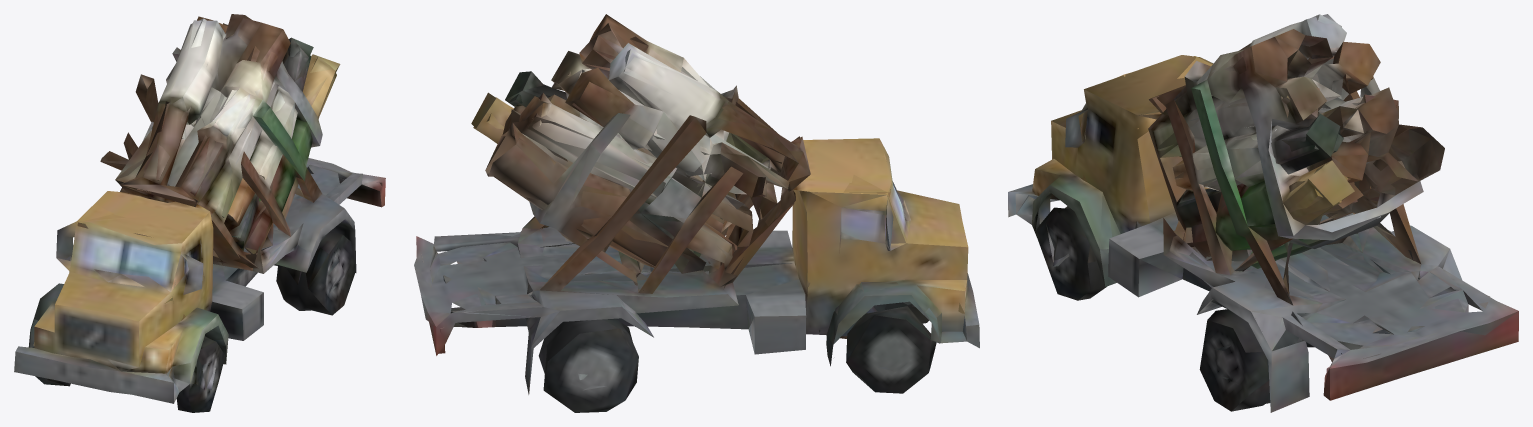
The model's file is rocketArtillery.glb.
3 views of the same model, side by side, from view 1: azimuth 30°, elevation 25°; view 2: azimuth 150°, elevation 25°; view 3: azimuth 270°, elevation 25° (orthographic). The views are drawn at different scales.
Visible parts, largest first — view 1: RETOPO; view 2: RETOPO; view 3: RETOPO.
Boxes of the visible parts, <box> form: RETOPO: <box>14,14,385,412</box>; RETOPO: <box>414,14,979,412</box>; RETOPO: <box>1008,14,1518,412</box>.
Bounding box in the file's own units: 0.9151 × 0.5864 × 0.7833.
1 material, 1 textured.
